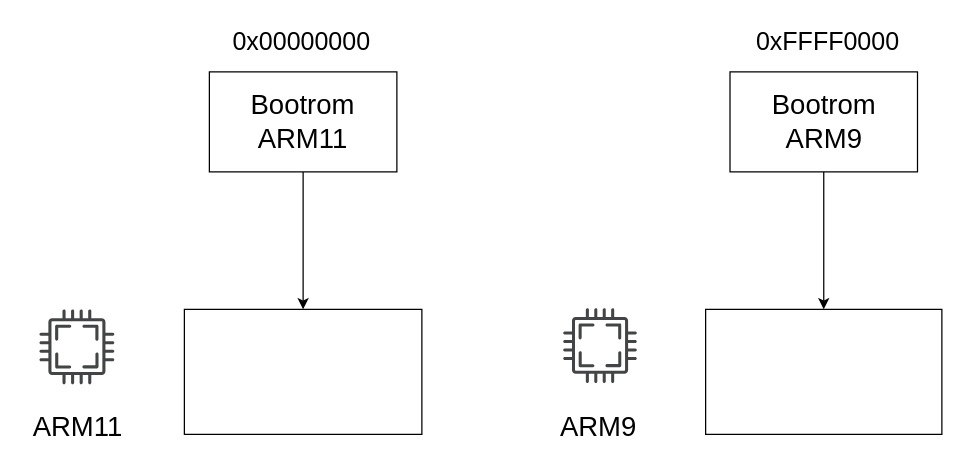
This 964x468 diagram has some shape labels left out. The centre of each missing label's shape, as x and y in pixels:
Boot11: the point at 302,371
Boot9: the point at 823,371
